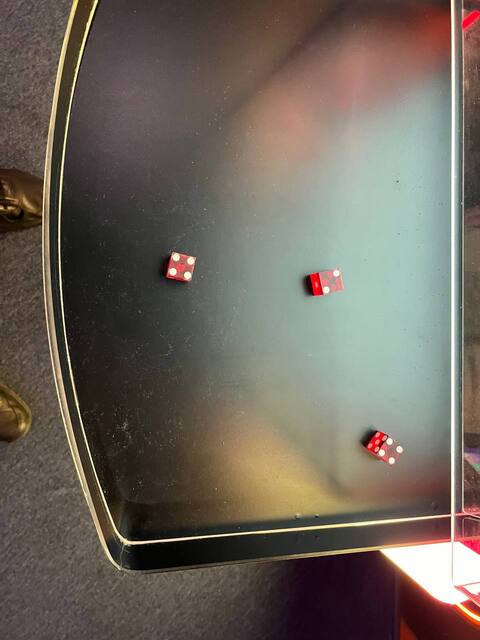four: (163, 248, 198, 285), (375, 434, 408, 466)
two: (314, 266, 346, 298)
